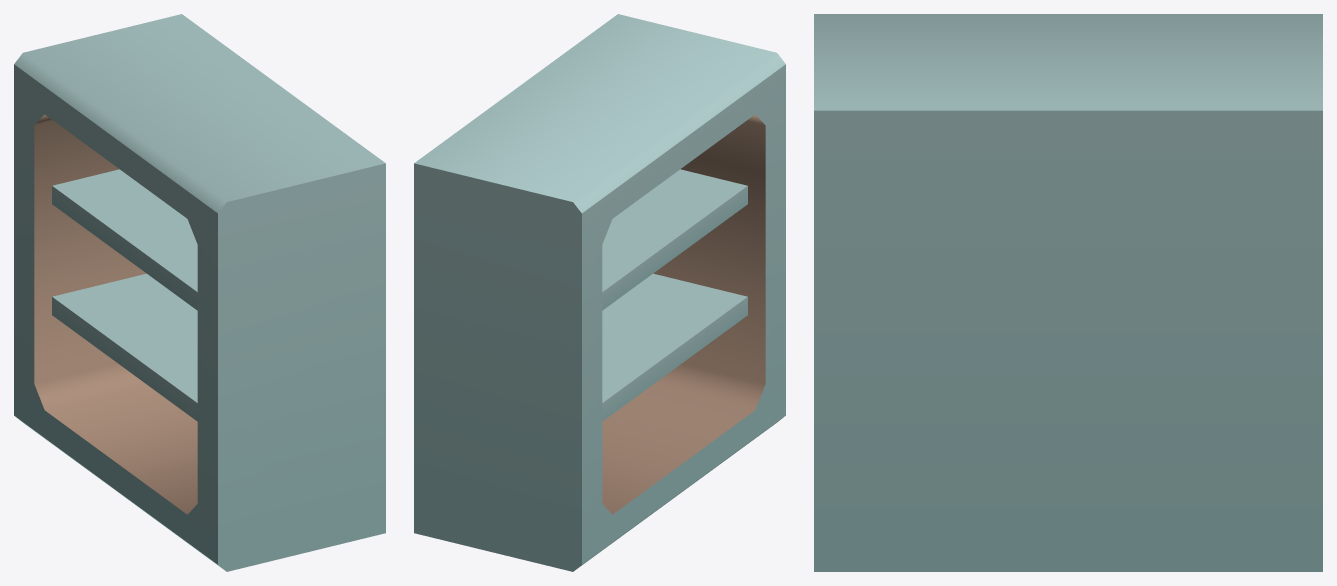
File: cabinet-decorative-upper-open (%wall).glb
3 renders of one model, left to right at view 1: azimuth 30°, elevation 25°; view 2: azimuth 150°, elevation 25°; view 3: azimuth 270°, elevation 25°, orthographic. The views are drawn at different scales.
Parts seen in each view (by area): view 1: cabinet-decorative-upper-open (%wall); view 2: cabinet-decorative-upper-open (%wall); view 3: cabinet-decorative-upper-open (%wall).
Part boxes in pixels (left/top/right/bottom): cabinet-decorative-upper-open (%wall): left=14, top=14, right=385, bottom=571; cabinet-decorative-upper-open (%wall): left=414, top=14, right=785, bottom=571; cabinet-decorative-upper-open (%wall): left=814, top=14, right=1322, bottom=571.
Size of the model in its own units: 0.2375 by 0.5 by 0.5.
